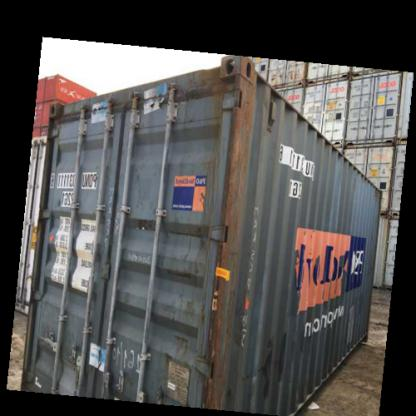Damage: (198, 252, 244, 356), (226, 65, 260, 162), (257, 330, 300, 356), (198, 61, 228, 96), (138, 82, 167, 116), (87, 97, 116, 129), (190, 219, 212, 256), (136, 206, 162, 236), (298, 224, 320, 258), (163, 327, 194, 348)
